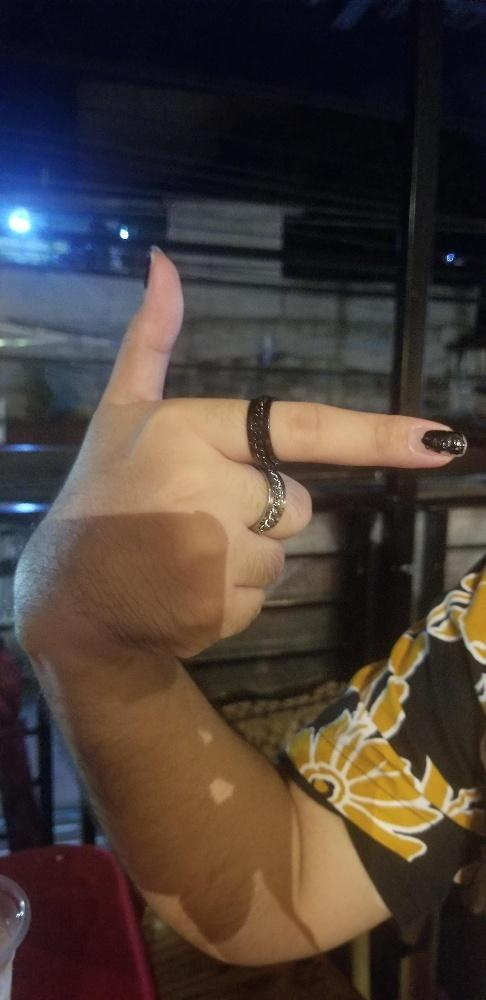g: (7, 252, 461, 669)
